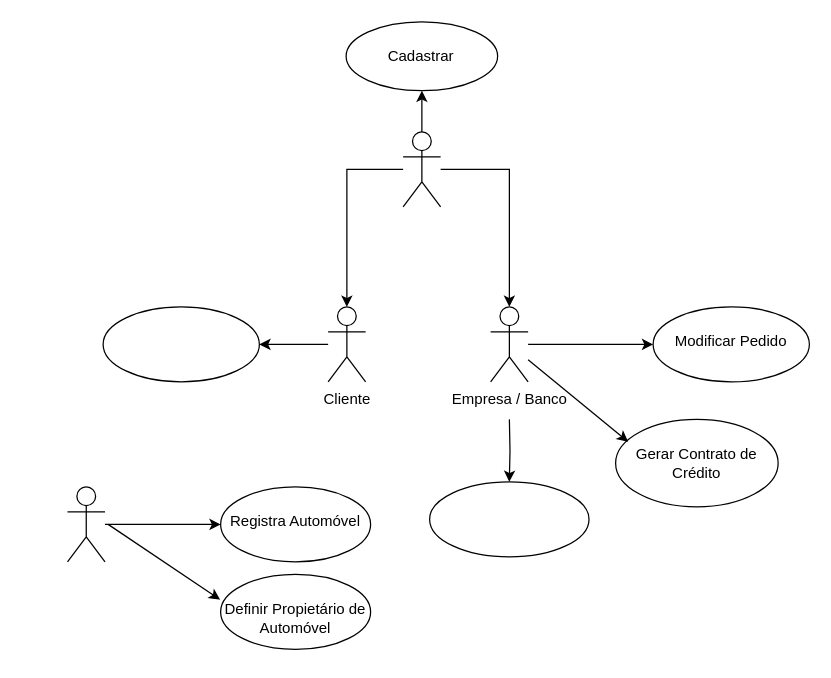
This 831x678 diagram has some shape labels left out. The centre of each missing label's shape, as x and y in pixels:
"Avaliar Pedido" belongs at (508,519).
"Gerenciar Pedido" belongs at (180,344).
"Sistema de Aluguel" belongs at (85,524).
"Usuário" belongs at (421,169).
